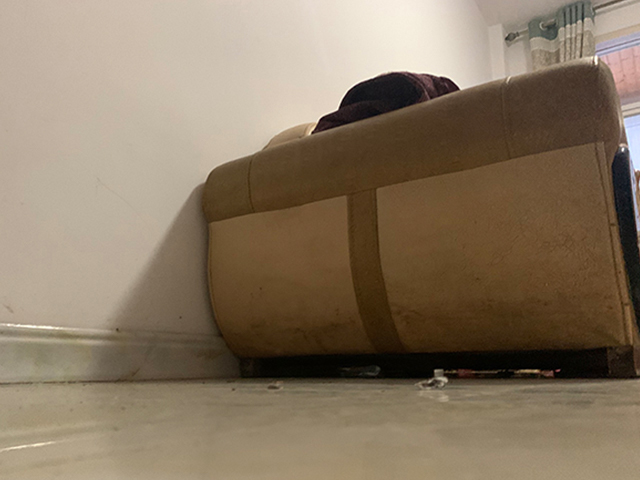sofa: (201, 55, 640, 380)
